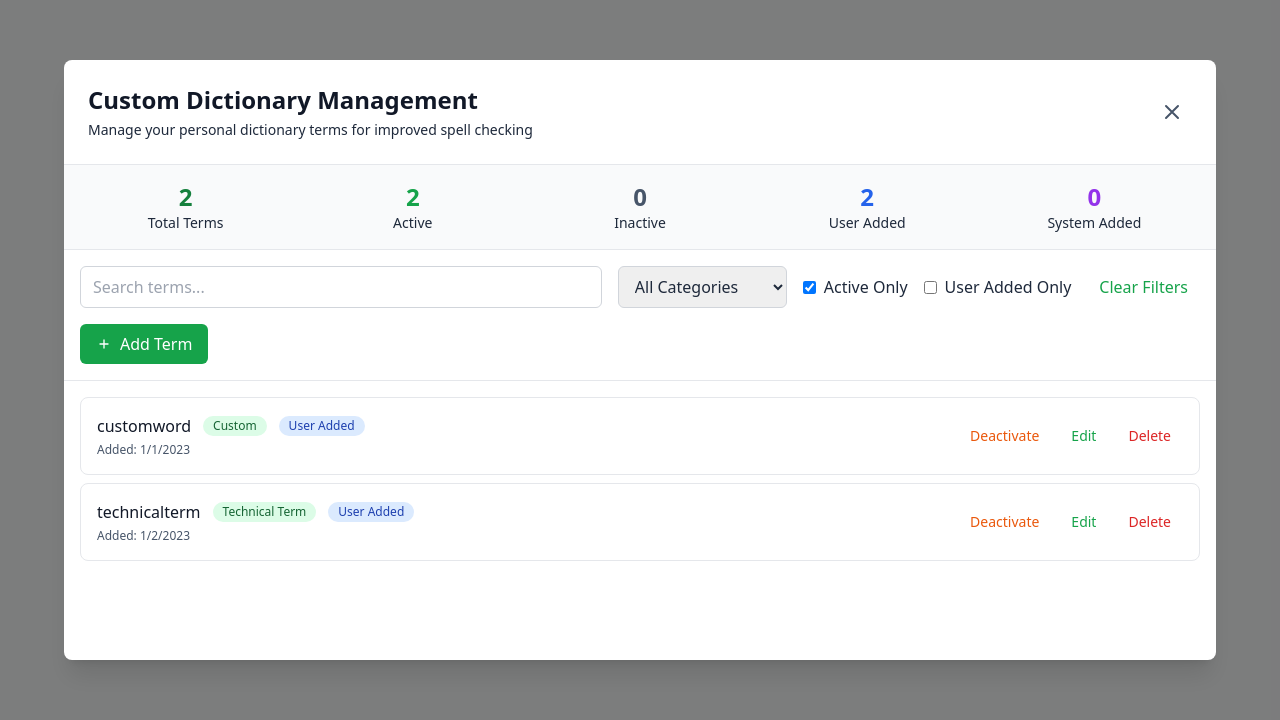
Scenario: DictionaryManager › Filtering › clears filters when clear button is clicked
The width and height of the screenshot is (1280, 720).
Set some filters first
Type "test" into the field with placeholder "Search terms..." at (341, 287), box [80,266,602,308]
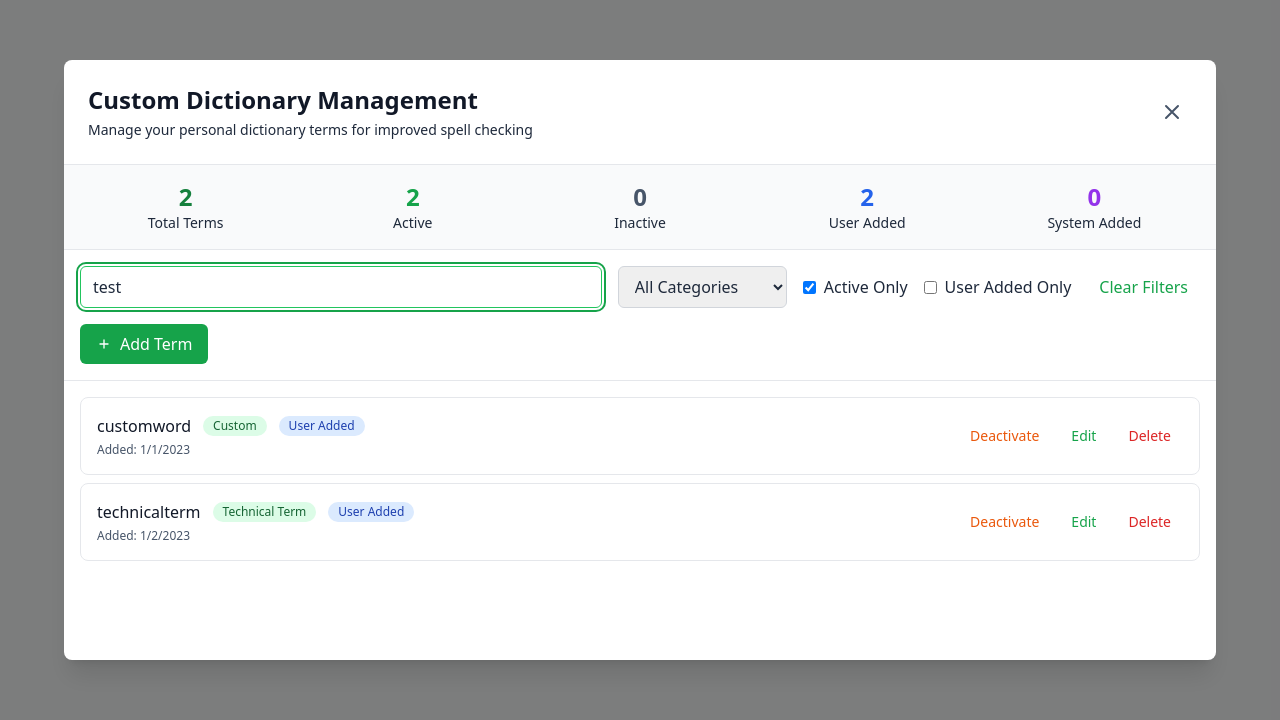
Click the button "Clear Filters" at (1144, 287), box [1087,267,1200,307]
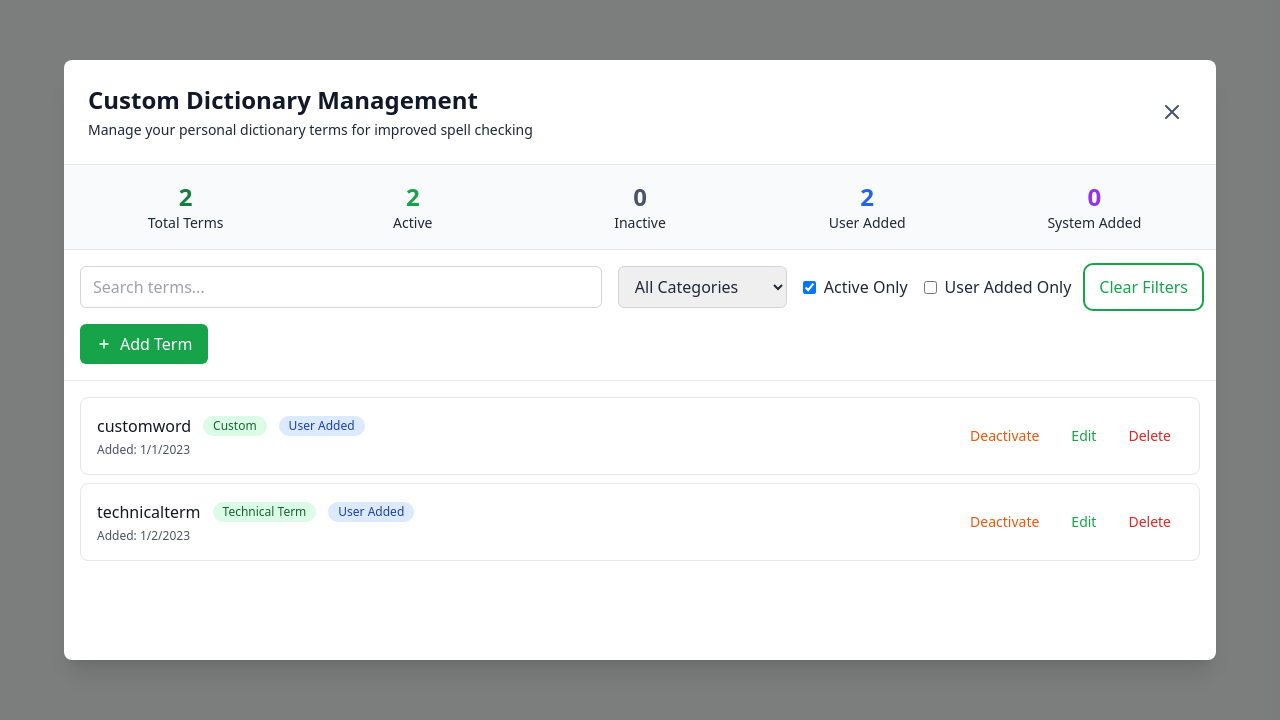
Expected: the field with placeholder "Search terms..." is empty, [80,266,602,308]
